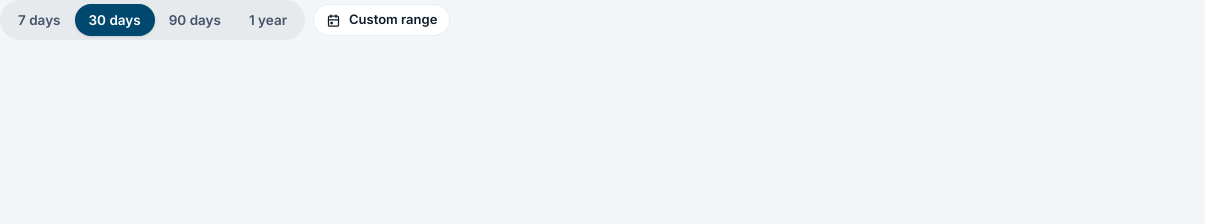
Test: PeriodToolbar › checks a custom range before it is applied
The width and height of the screenshot is (1205, 224).
Click the radio button labelled "90 days" at (195, 20), box x1=155 y1=4 x2=235 y2=36
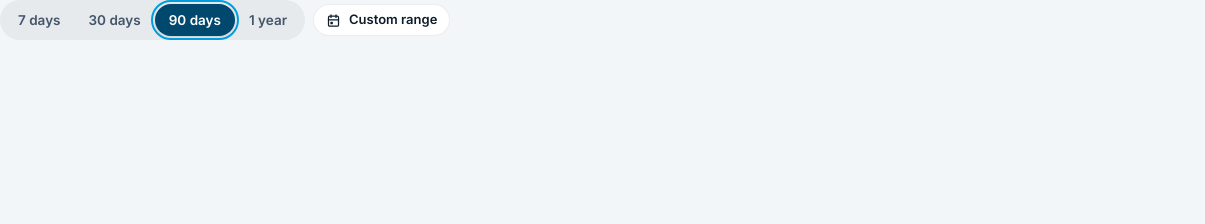
Click the button "Custom range" at (382, 20), box x1=313 y1=4 x2=450 y2=36
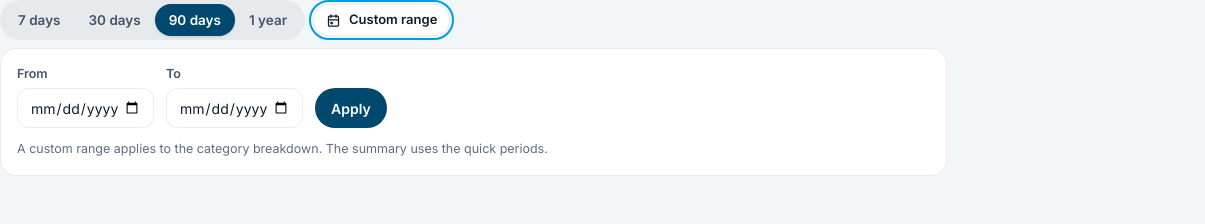
Click the button "Apply" at (351, 108), box x1=315 y1=88 x2=387 y2=128
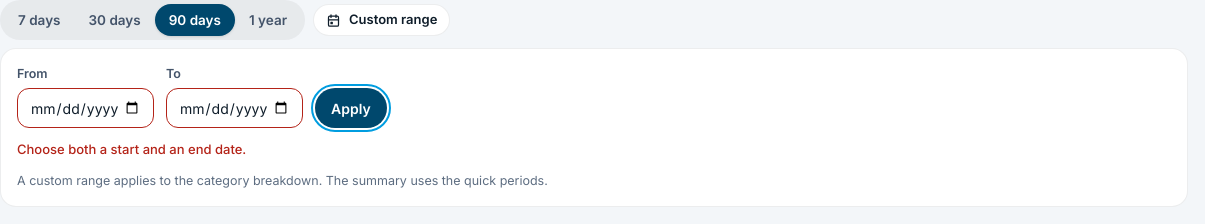
expect the message shows "both": met, box x1=17 y1=141 x2=246 y2=157
